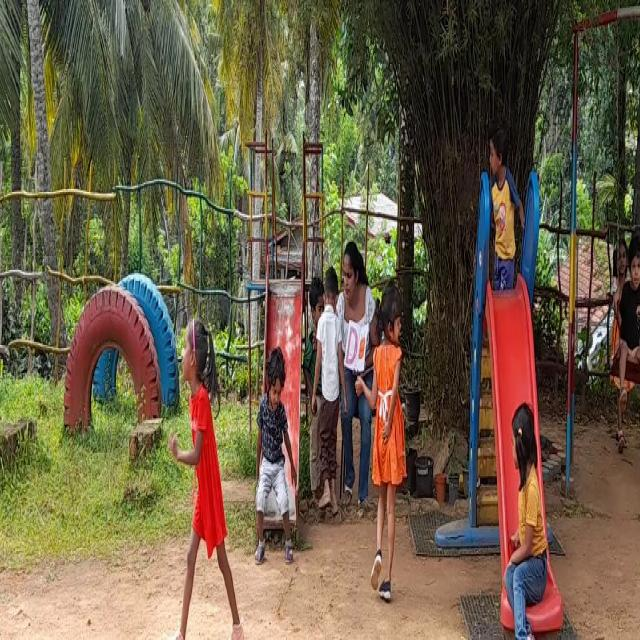adult: (336, 230, 372, 511)
child: (170, 312, 242, 640), (500, 398, 545, 640), (375, 284, 407, 623), (254, 345, 292, 563), (313, 270, 343, 521), (609, 223, 640, 418), (488, 130, 515, 277)
